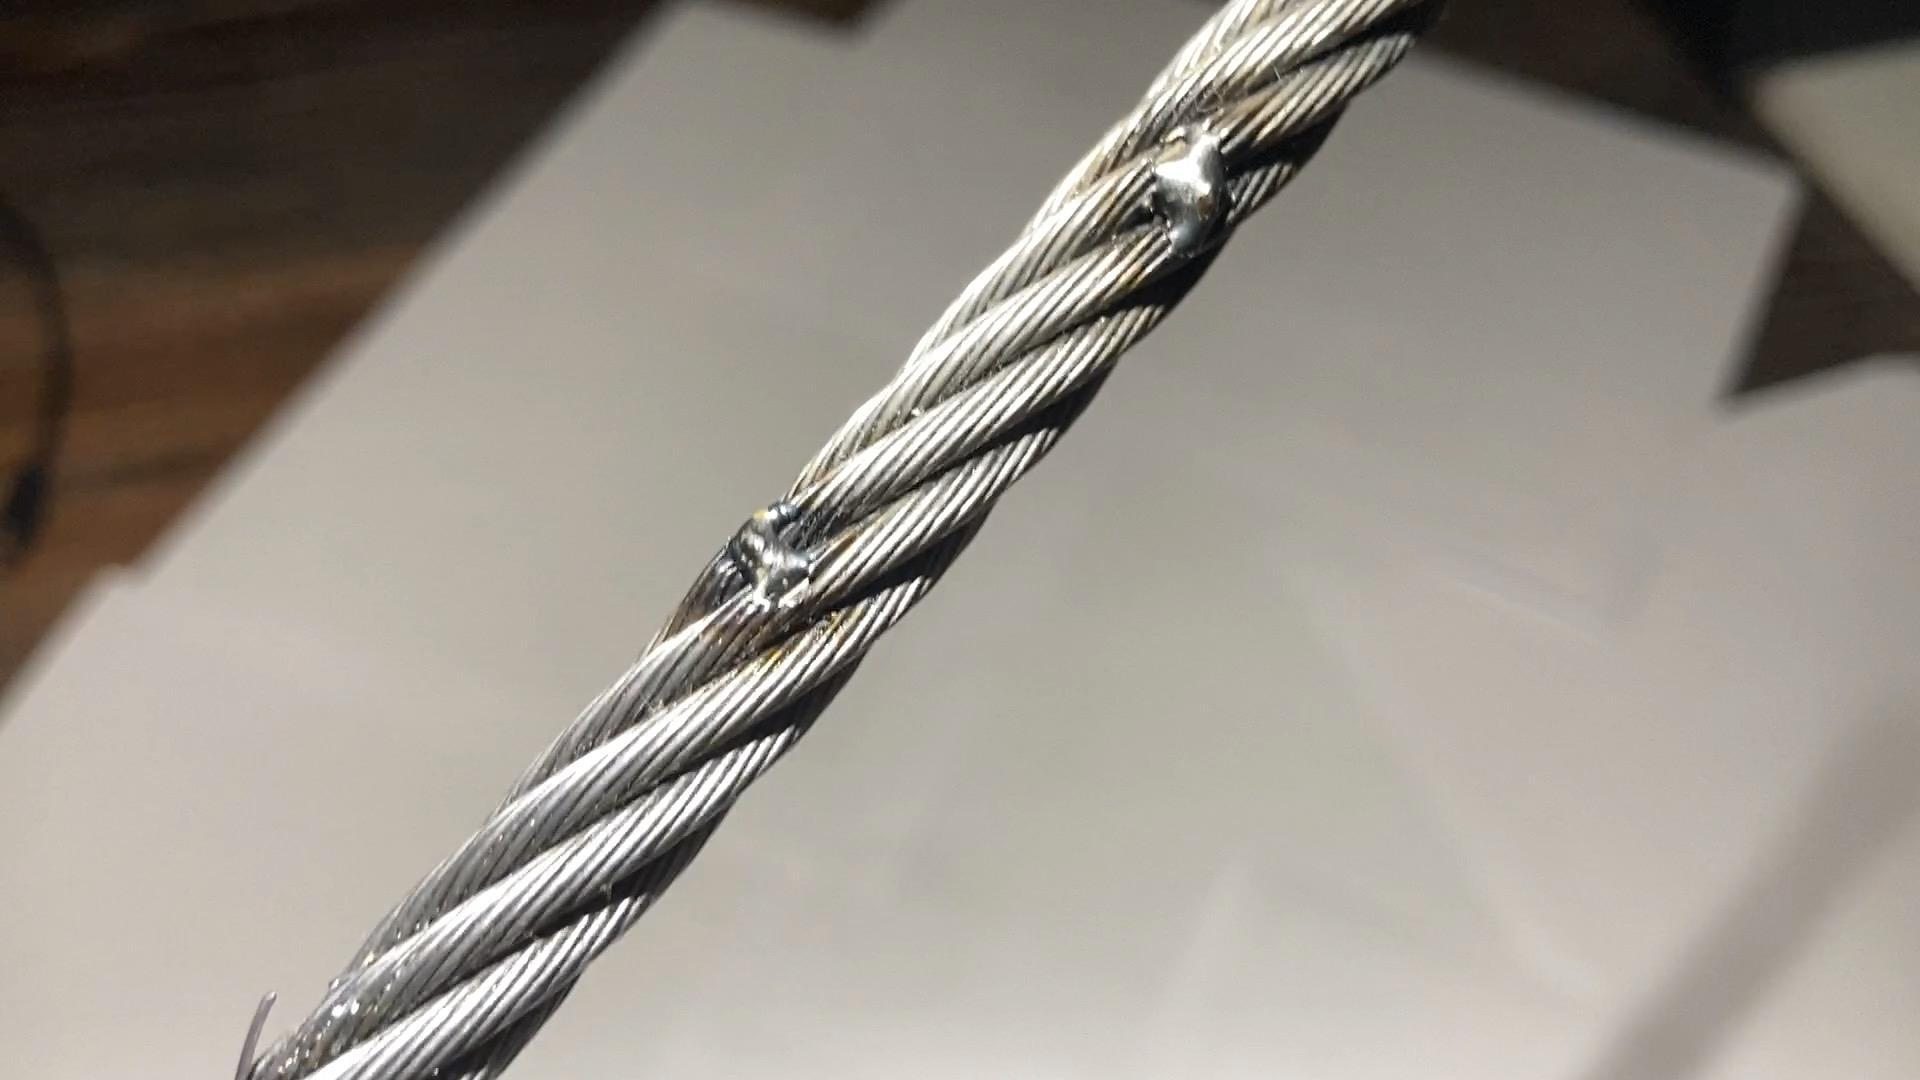break: (214, 971, 298, 1080)
thunderbolt: (1127, 127, 1263, 227), (708, 517, 811, 593)
